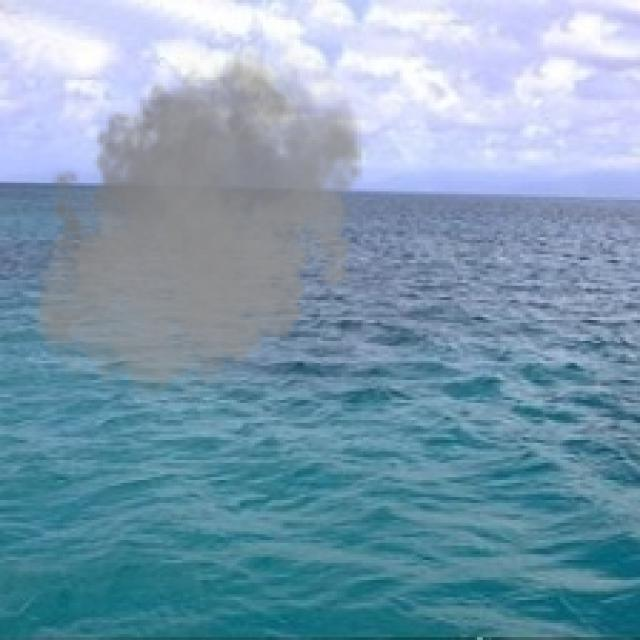Smoke: (28, 34, 374, 409)
